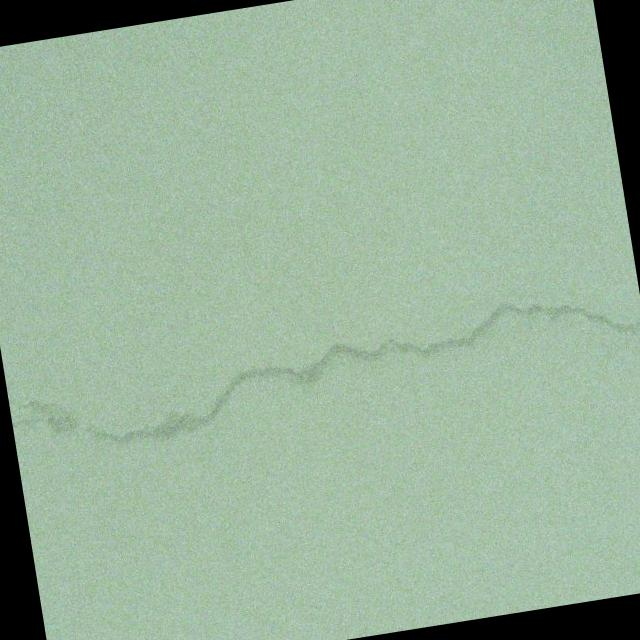crack: (5, 278, 640, 465)
